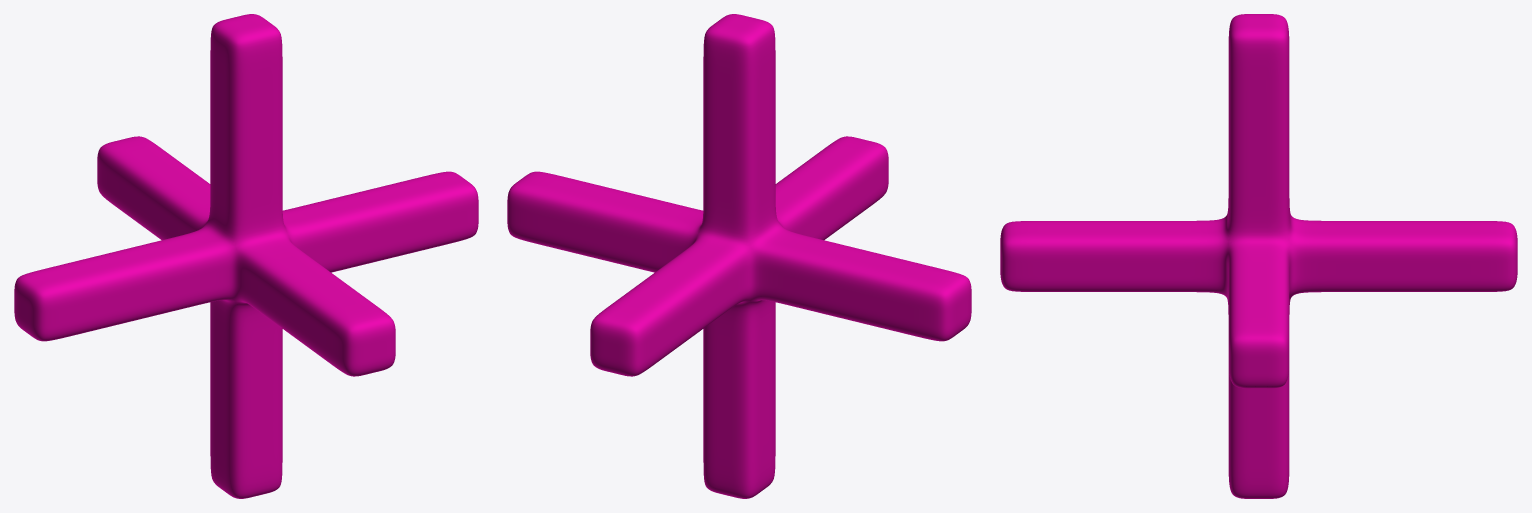
File: torrus.glb
3 renders of one model, left to right at view 1: azimuth 30°, elevation 25°; view 2: azimuth 150°, elevation 25°; view 3: azimuth 270°, elevation 25°, orthographic.
Visible parts, largest first — view 1: Torus.002; view 2: Torus.002; view 3: Torus.002.
Part boxes in pixels (bbox=[...]): Torus.002: bbox=[14, 14, 478, 498]; Torus.002: bbox=[507, 14, 971, 498]; Torus.002: bbox=[1000, 14, 1517, 498].
Bounding box in the file's own units: 8.5 × 8.5 × 8.5.
